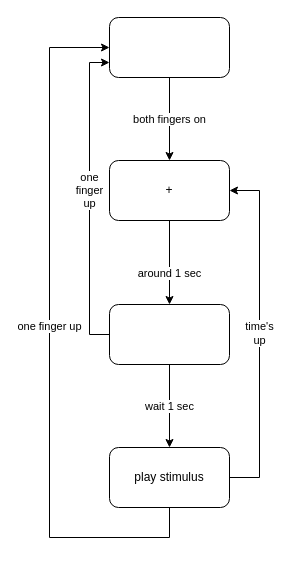
This 290x563 diagram has some shape labels left out. The shapes that lost their labels are listed below. From the top down, each one's centre as x and y in pixels, then its label:
At [169,47]: "ready to start put both fingers on".
At [169,334]: "show hand without number".
